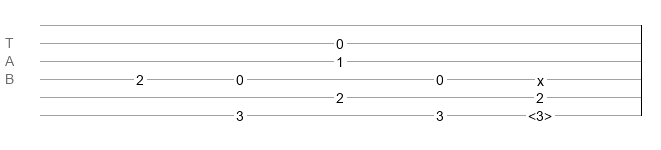0: (236, 72, 244, 82), (336, 36, 344, 46), (436, 72, 444, 82)
1: (336, 54, 344, 64)
2: (136, 72, 144, 82), (336, 90, 344, 100), (536, 90, 544, 100)
3: (236, 108, 244, 118), (436, 108, 444, 118)
harmonic: (528, 108, 552, 118)
x: (537, 73, 544, 81)
